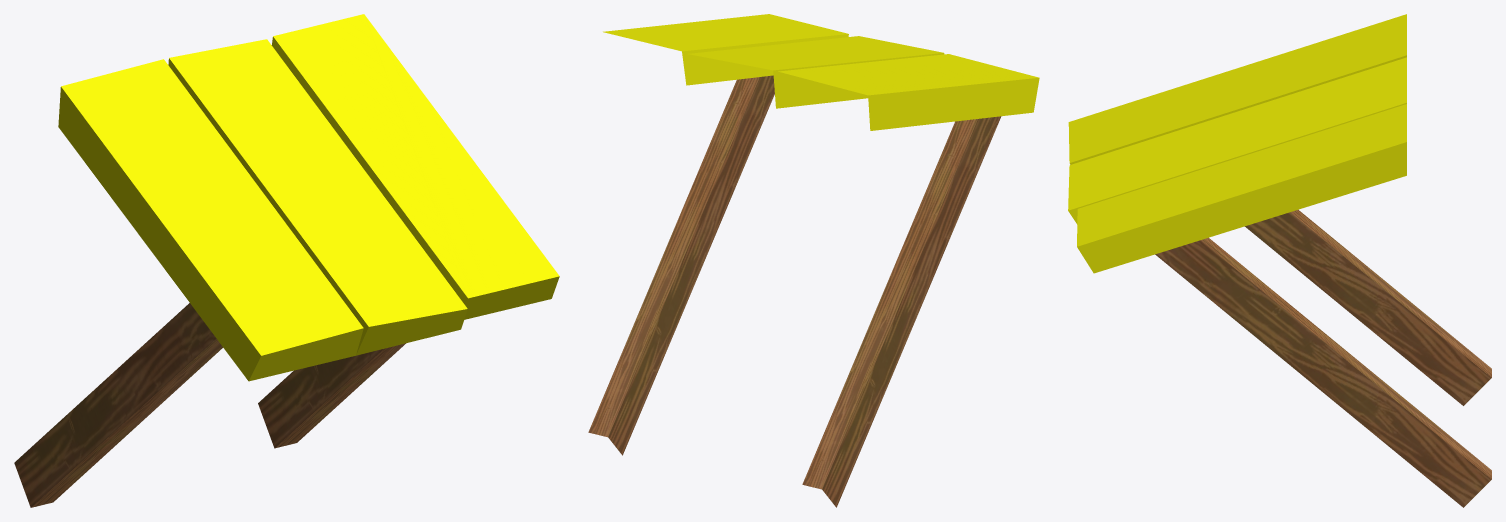
File: window-roof-thin.glb
3 views of the same model, side by side, from view 1: azimuth 30°, elevation 25°; view 2: azimuth 150°, elevation 25°; view 3: azimuth 270°, elevation 25° (orthographic). The views are drawn at different scales.
Parts seen in each view (by area): view 1: Window_Roof_Thin; view 2: Window_Roof_Thin; view 3: Window_Roof_Thin.
Boxes of the visible parts, box(x1,y1,x2,y2) form: Window_Roof_Thin: box(14, 14, 559, 507); Window_Roof_Thin: box(588, 14, 1039, 507); Window_Roof_Thin: box(1068, 14, 1491, 507).
Size of the model in its own units: 0.8518 by 1.18 by 1.18.
2 materials, 1 textured.
